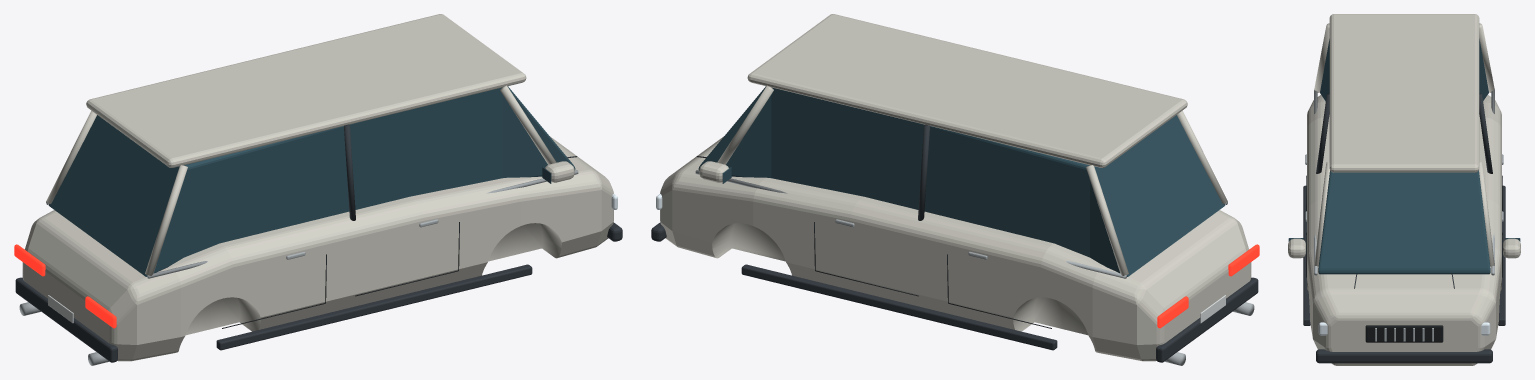
Rendered from SM_Van.fbx.
3 views of the same model, side by side, from view 1: azimuth 30°, elevation 25°; view 2: azimuth 150°, elevation 25°; view 3: azimuth 270°, elevation 25° (orthographic). The views are drawn at different scales.
Visible parts, largest first — view 1: SM_Van; view 2: SM_Van; view 3: SM_Van.
Boxes of the visible parts, x1,y1,x2,y2 form: SM_Van: [14, 14, 622, 365]; SM_Van: [651, 14, 1259, 365]; SM_Van: [1288, 14, 1520, 365].
Bounding box in the file's own units: 527 × 233 × 188.
